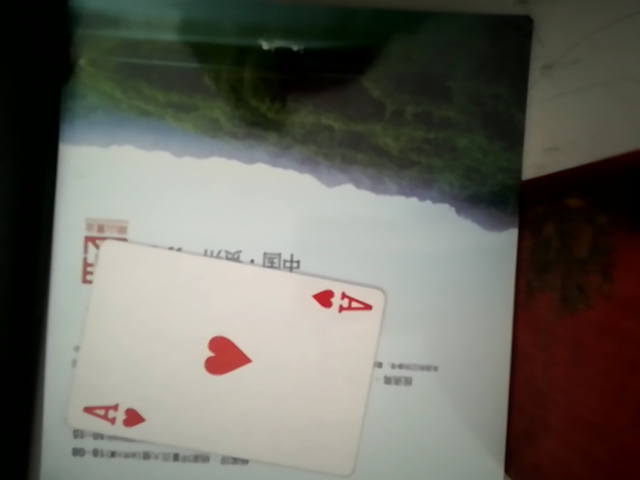hx a: (57, 234, 396, 475)
